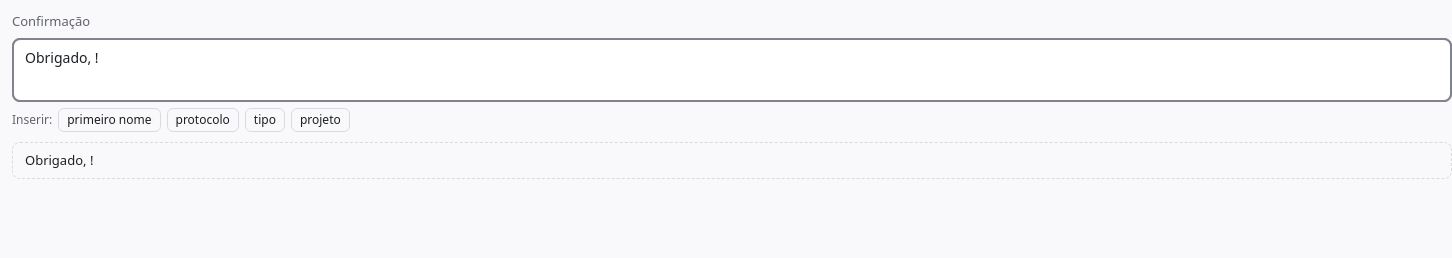
it: TemplateField › o botao poe o bloco onde esta o cursor, e o texto gravado leva a variavel escrita
Click the button "primeiro nome". click: [109, 120]
box: [58, 108, 160, 132]
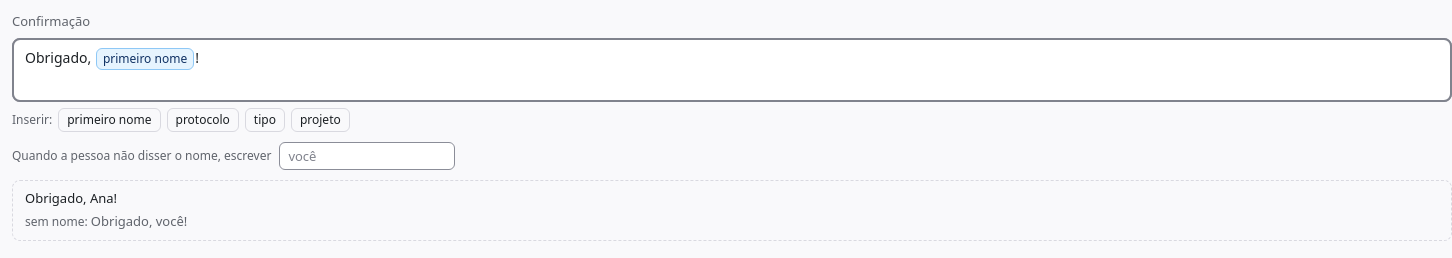
Now the field named "Confirmação" reads "Obrigado, primeiro nome !", box [12, 38, 1451, 102]
